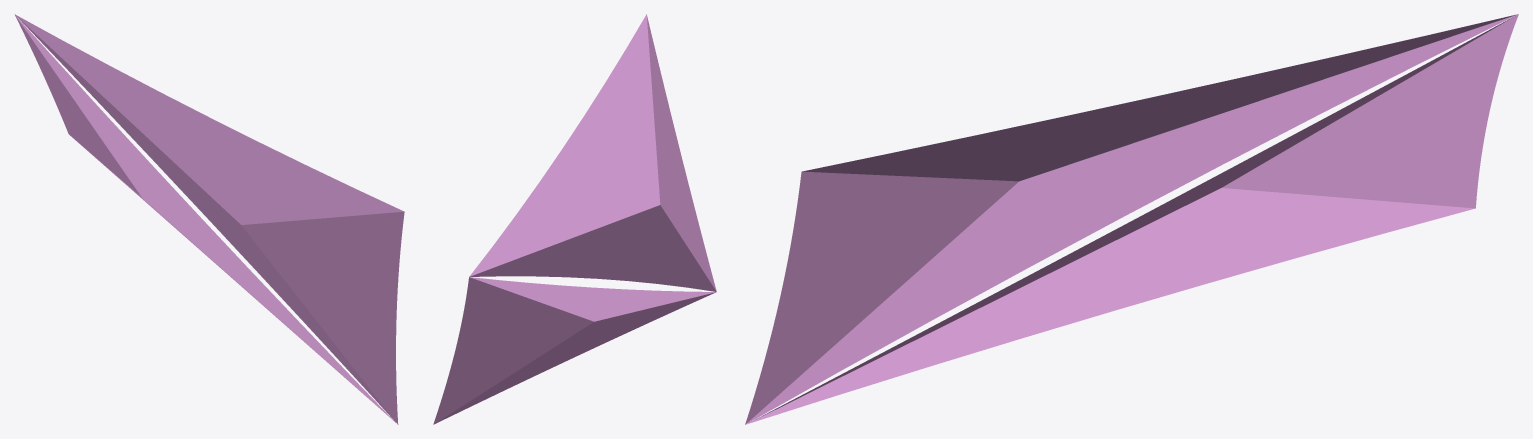
Rendered from TYPE6-2.glb.
The picture shows the model from 3 angles, left to right: view 1: azimuth 30°, elevation 25°; view 2: azimuth 150°, elevation 25°; view 3: azimuth 270°, elevation 25°; orthographic projection. The views are drawn at different scales.
Parts seen in each view (by area): view 1: TYPE6-2 (×6); view 2: TYPE6-2 (×6); view 3: TYPE6-2 (×6).
Boxes of the visible parts, x1,y1,x2,y2 form: TYPE6-2 (×6): [15, 14, 404, 424]; TYPE6-2 (×6): [433, 14, 716, 424]; TYPE6-2 (×6): [745, 14, 1518, 424].
Bounding box in the file's own units: 6.5 × 10.81 × 22.62.
